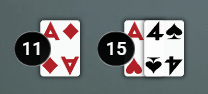4: (142, 17, 166, 44)
a: (37, 18, 62, 45), (121, 19, 145, 44)
